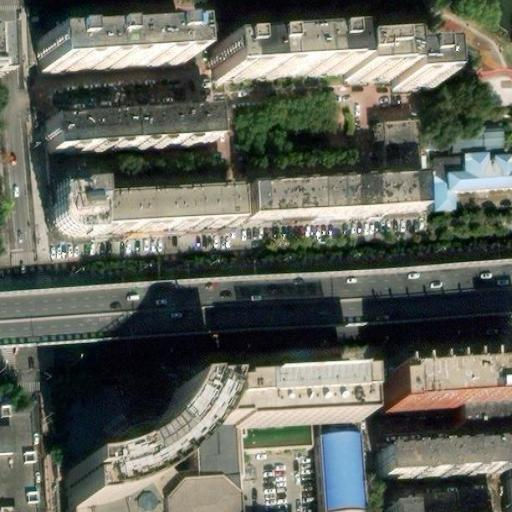building: (50, 382, 191, 503), (192, 390, 367, 440), (44, 108, 208, 154), (241, 183, 416, 225), (39, 31, 181, 77), (81, 198, 227, 240), (380, 446, 512, 484), (219, 51, 351, 88), (430, 159, 510, 212), (385, 371, 496, 409), (316, 460, 361, 512), (376, 119, 421, 171), (387, 489, 487, 512), (38, 196, 83, 242), (350, 56, 400, 90), (399, 66, 440, 100), (450, 135, 497, 153), (495, 373, 512, 403)
